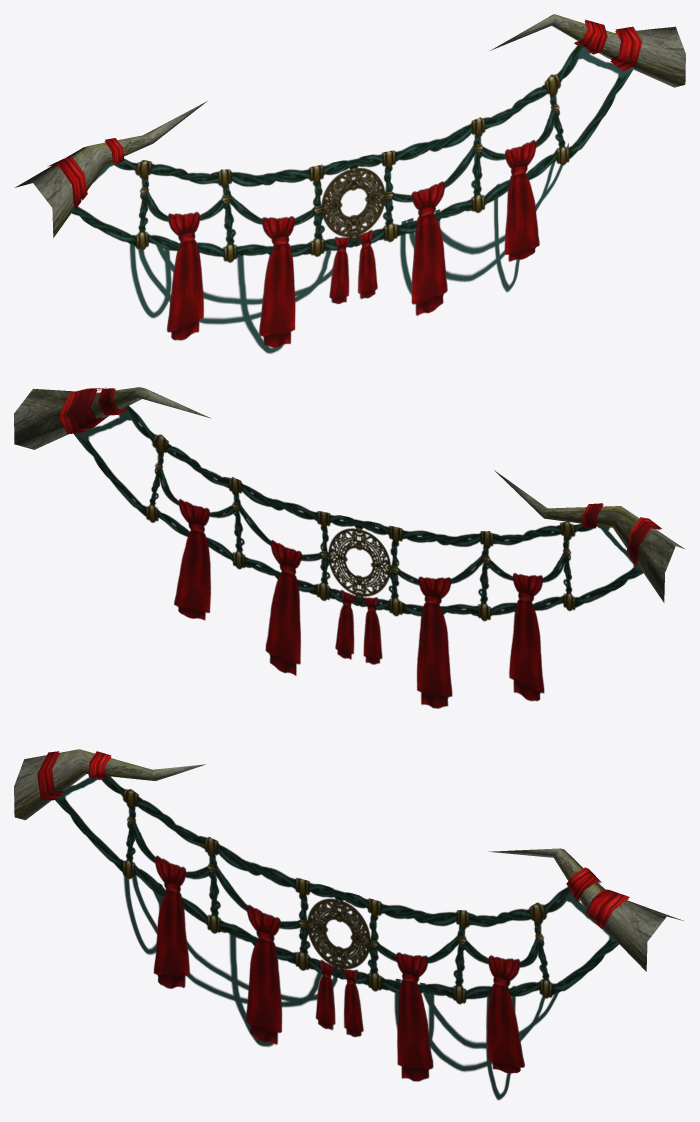
The model's file is prayer_banner01.glb.
3 renders of one model, top to bottom at view 1: azimuth 30°, elevation 25°; view 2: azimuth 150°, elevation 25°; view 3: azimuth 330°, elevation 25°, orthographic.
Visible parts, largest first — view 1: prayer_banner01; view 2: prayer_banner01; view 3: prayer_banner01.
Boxes of the visible parts, x1,y1,x2,y2 form: prayer_banner01: (14,14,685,353); prayer_banner01: (14,387,685,708); prayer_banner01: (14,749,683,1100).
Bounding box in the file's own units: 43.2 × 17.97 × 3.51.
1 material, 1 textured.
